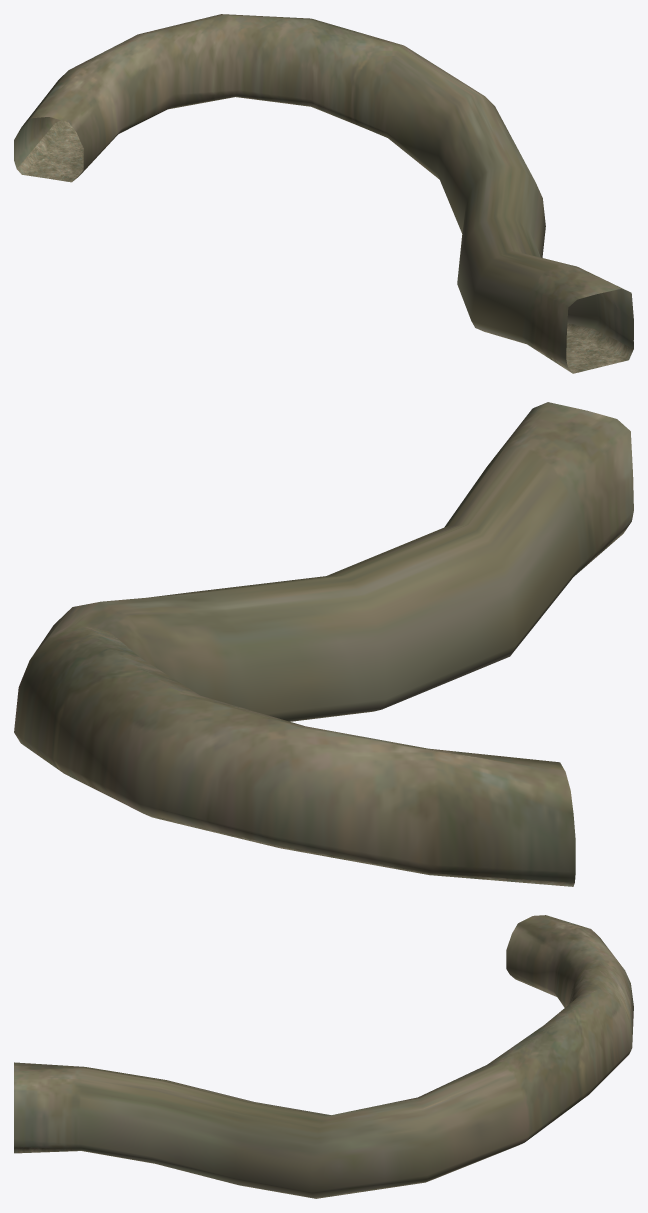
Rendered from OVERHILL_A_01_CM_TUNNEL_06.fbx.
3 renders of one model, top to bottom at view 1: azimuth 30°, elevation 25°; view 2: azimuth 150°, elevation 25°; view 3: azimuth 270°, elevation 25°, orthographic. The views are drawn at different scales.
Visible parts, largest first — view 1: OVERHILL_A_01_CM_TUNNEL_06; view 2: OVERHILL_A_01_CM_TUNNEL_06; view 3: OVERHILL_A_01_CM_TUNNEL_06.
Boxes of the visible parts, left/top/right/bottom form: OVERHILL_A_01_CM_TUNNEL_06: left=14, top=14, right=633, bottom=373; OVERHILL_A_01_CM_TUNNEL_06: left=14, top=402, right=633, bottom=886; OVERHILL_A_01_CM_TUNNEL_06: left=14, top=915, right=633, bottom=1198.
Size of the model in its own units: 187464 by 69171 by 260635.
Materials: 1 (1 with a texture image).
